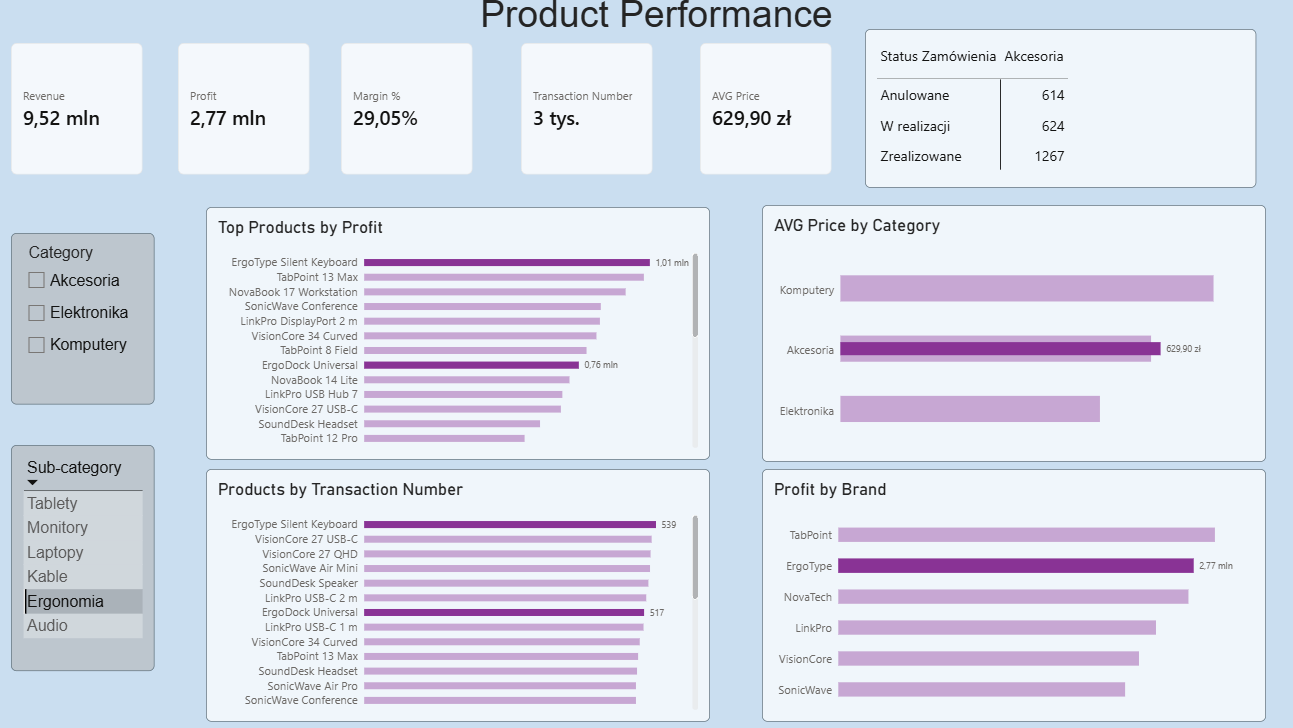

What the dashboard file says about the page in this screenshot:
{"tool":"powerbi","page":{"name":"Product Performance","canvas":[1920,1080],"ordinal":1},"visuals":[{"type":"textbox","box":[10,15,1910,71.7],"z":0},{"type":"slicer","fields":{"Values":["produkty.Kategoria"]},"box":[42.9,358.6,205,245],"z":2000},{"type":"tableEx","fields":{"Values":["produkty.Podkategoria"]},"box":[42.9,661.4,205,323.3],"z":3000},{"type":"barChart","title":"Top Products by Profit","fields":{"Category":["produkty.NazwaProduktu"],"Y":["Miary.Profit"]},"box":[321.4,321.4,720,361.4],"z":4000},{"type":"cardVisual","fields":{"Data":["Miary.Revenue"]},"box":[42.9,87.1,188.3,188.3],"z":9000},{"type":"cardVisual","fields":{"Data":["Miary.Profit"]},"box":[281.4,87.1,188.3,188.3],"z":10000},{"type":"pivotTable","fields":{"Columns":["produkty.Kategoria"],"Rows":["sprzedaz.StatusZamowienia"],"Values":["Miary.Transaction Number"]},"box":[1262.9,67.1,558.6,227.1],"z":11000},{"type":"cardVisual","fields":{"Data":["Miary.Margin %"]},"box":[514.3,87.1,188.6,188.6],"z":12000},{"type":"cardVisual","fields":{"Data":["Miary.Transaction Number"]},"box":[771.4,87.1,188.6,188.6],"z":13000},{"type":"clusteredBarChart","title":"Products by Transaction Number","fields":{"Category":["produkty.NazwaProduktu"],"Y":["Miary.Transaction Number"]},"box":[321.4,695.7,720,361.4],"z":13001},{"type":"cardVisual","fields":{"Data":["Miary.AVG Price"]},"box":[1027.1,87.1,188.6,188.6],"z":13002},{"type":"clusteredBarChart","title":"AVG Price by Category","fields":{"Category":["produkty.Kategoria"],"Y":["Miary.AVG Price"]},"box":[1115.7,318.6,720,367.1],"z":13003},{"type":"clusteredBarChart","title":"Profit by Brand","fields":{"Category":["produkty.Marka"],"Y":["Miary.Profit"]},"box":[1115.7,695.7,720,361.4],"z":13004}]}

Visuals, with their boxes in screenshot pixels (x1, y1, x2, y2), scaled from the page's 1920x1080 canvas onto the 1293x728 screenshot:
textbox: <bbox>7, 10, 1292, 58</bbox>
slicer - produkty.Kategoria: <bbox>29, 242, 167, 407</bbox>
tableEx - produkty.Podkategoria: <bbox>29, 446, 167, 664</bbox>
"Top Products by Profit" barChart: <bbox>216, 217, 701, 460</bbox>
cardVisual - Miary.Revenue: <bbox>29, 59, 156, 186</bbox>
cardVisual - Miary.Profit: <bbox>190, 59, 316, 186</bbox>
pivotTable - produkty.Kategoria x sprzedaz.StatusZamowienia: <bbox>850, 45, 1227, 198</bbox>
cardVisual - Miary.Margin %: <bbox>346, 59, 473, 186</bbox>
cardVisual - Miary.Transaction Number: <bbox>519, 59, 646, 186</bbox>
"Products by Transaction Number" clusteredBarChart: <bbox>216, 469, 701, 713</bbox>
cardVisual - Miary.AVG Price: <bbox>692, 59, 819, 186</bbox>
"AVG Price by Category" clusteredBarChart: <bbox>751, 215, 1236, 462</bbox>
"Profit by Brand" clusteredBarChart: <bbox>751, 469, 1236, 713</bbox>
